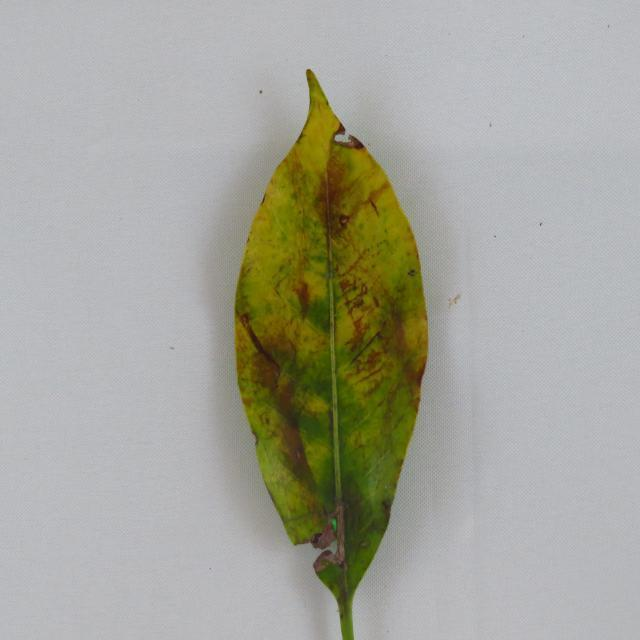DeficienciaNutricional-Nitrogeno: (238, 69, 424, 636)
